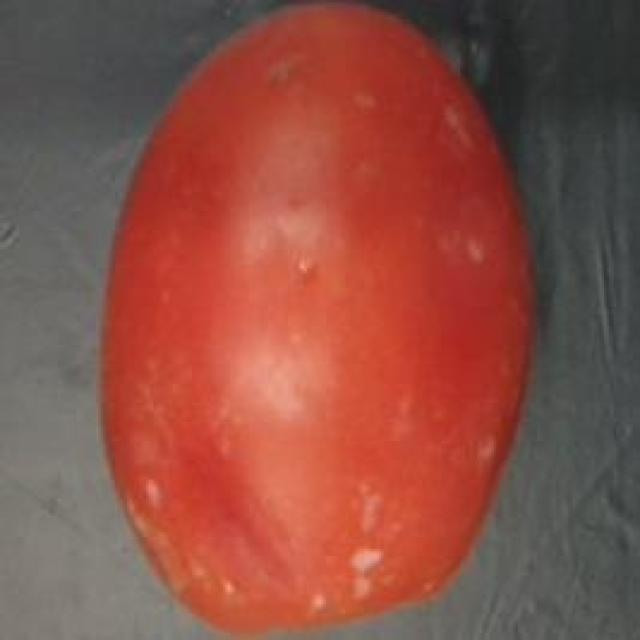overripe tomato: (82, 0, 556, 640)
